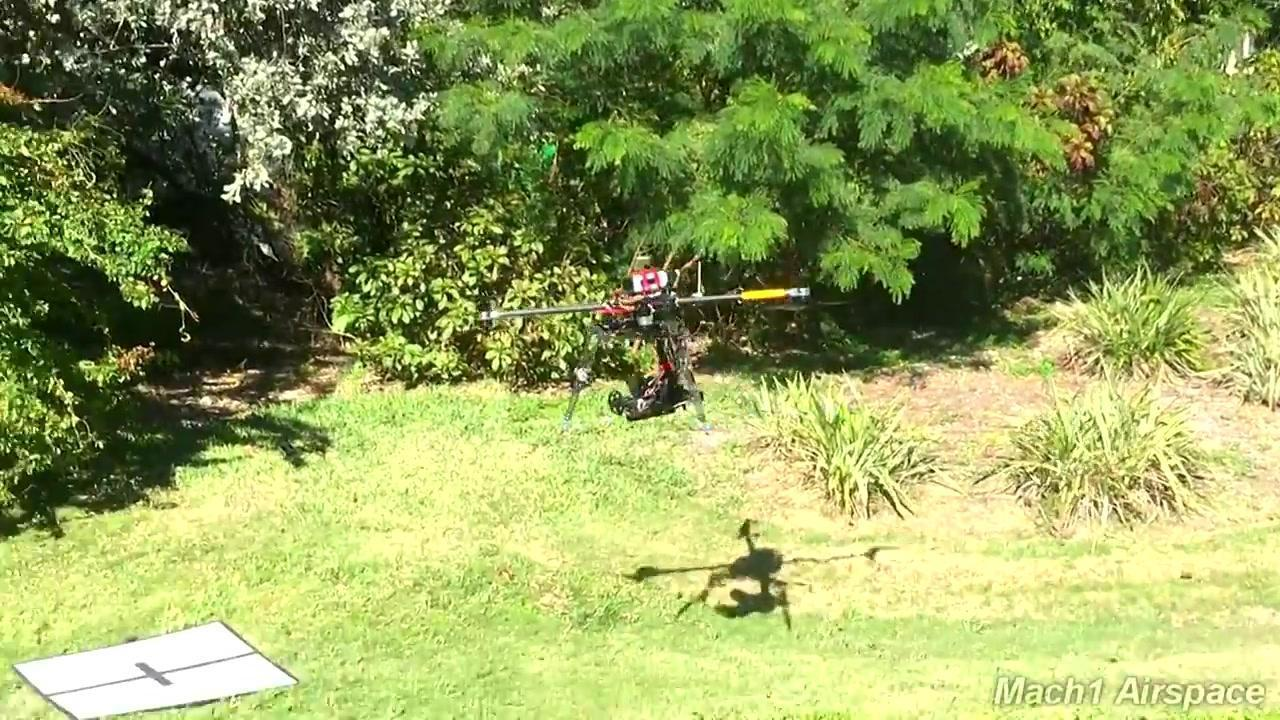UAV: (482, 265, 811, 422)
